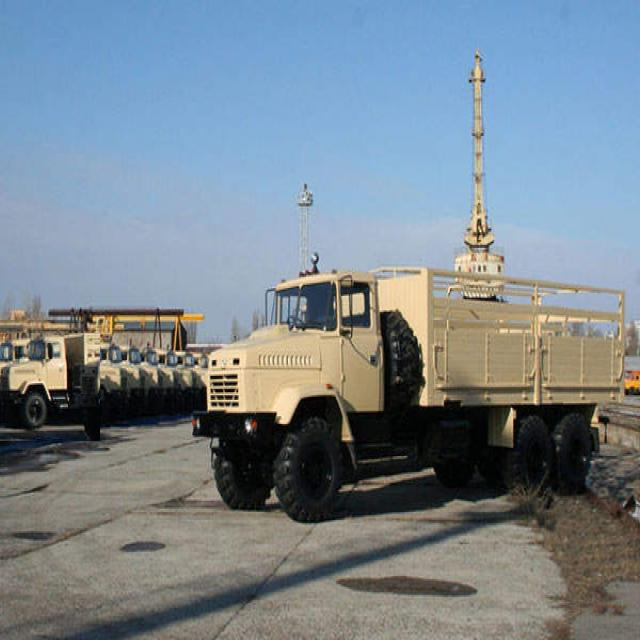truck: (194, 268, 625, 520), (0, 333, 100, 441)
